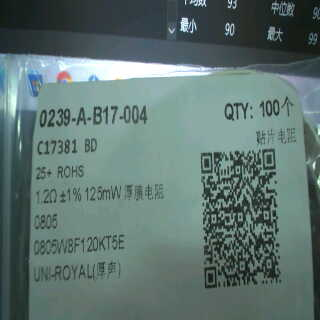1.2R: (30, 186, 59, 231)
